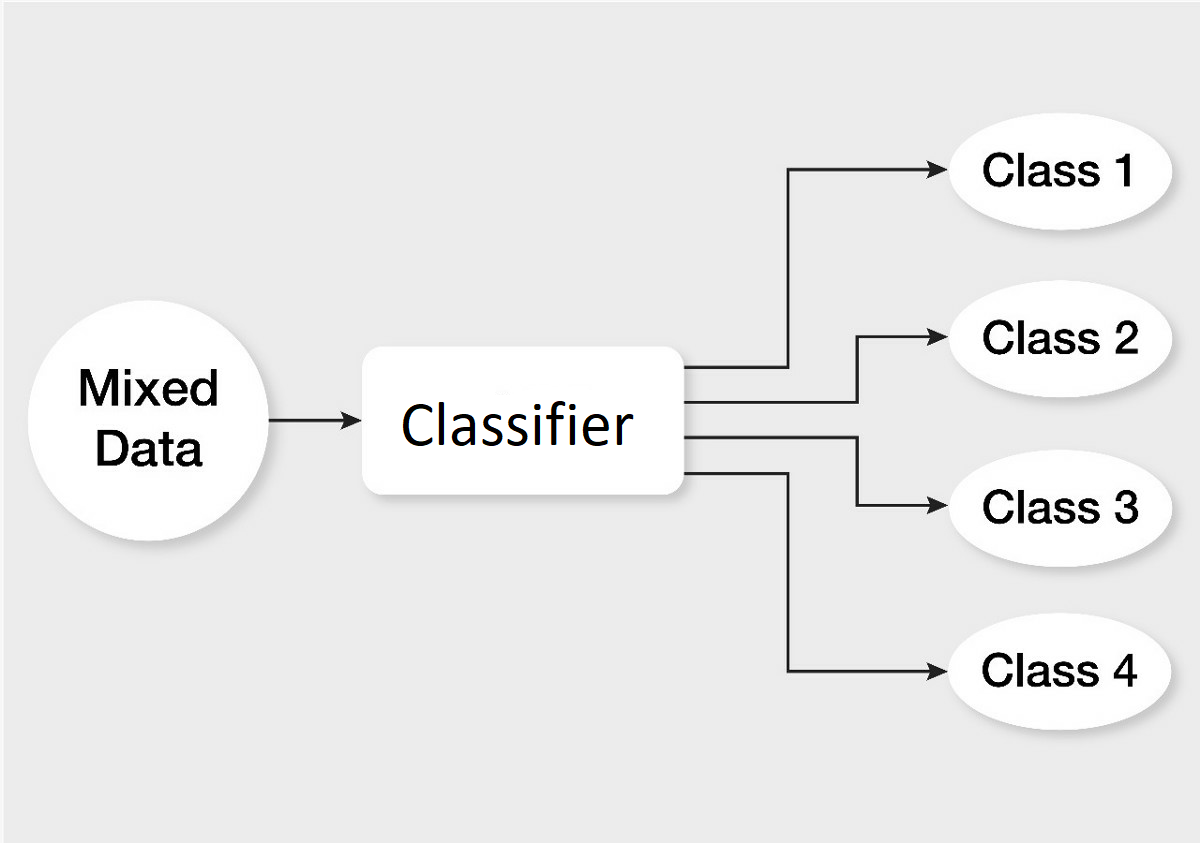arrow: (685, 156, 949, 375), (683, 468, 948, 682), (677, 317, 949, 410), (683, 428, 951, 515), (266, 408, 360, 429)
connection: (21, 295, 275, 549)
process: (357, 340, 692, 505)
terminator: (942, 108, 1180, 234), (942, 608, 1177, 733), (942, 277, 1176, 402), (945, 446, 1176, 572)
text: (73, 361, 222, 473), (398, 396, 636, 454), (981, 146, 1142, 193), (978, 482, 1145, 527), (977, 314, 1144, 358), (978, 649, 1141, 692)
